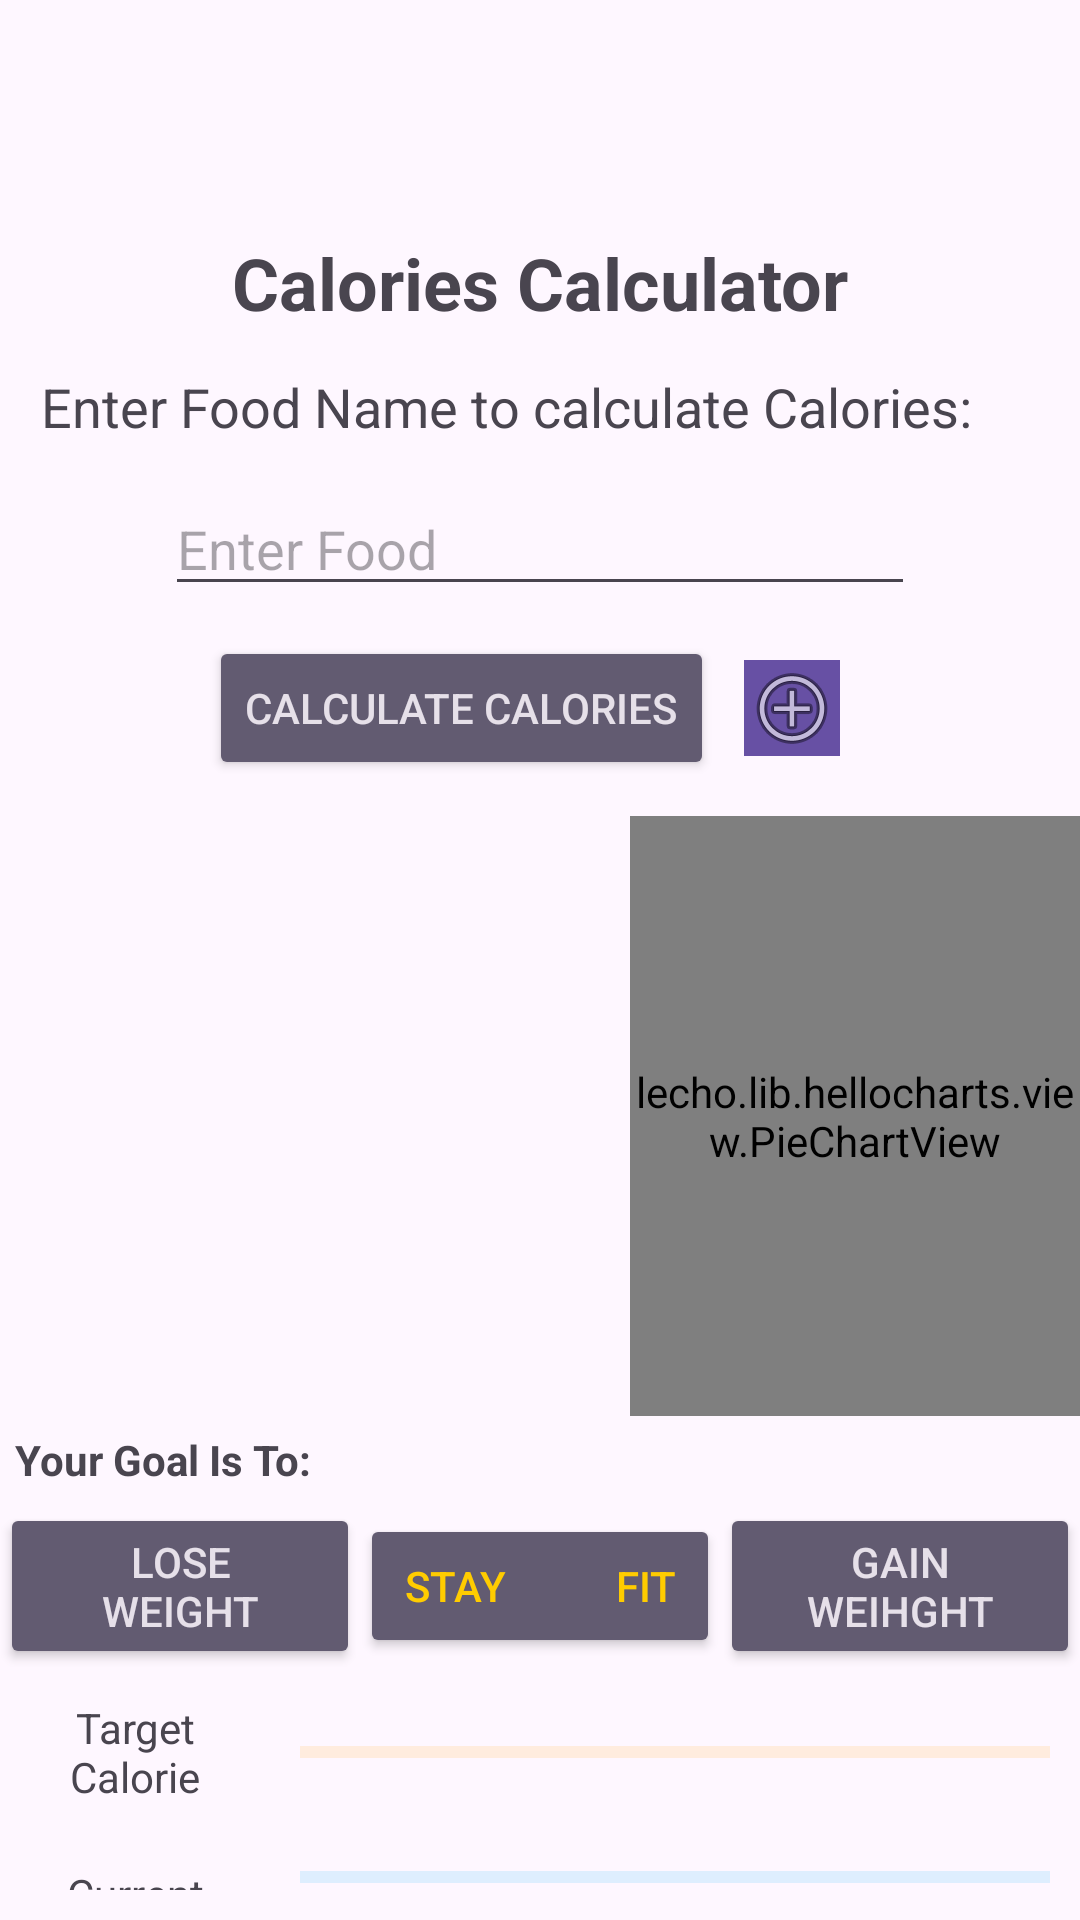

Where to tap for icons on this 1080x1920 app screen, as (x,y):
add: (792,708)
